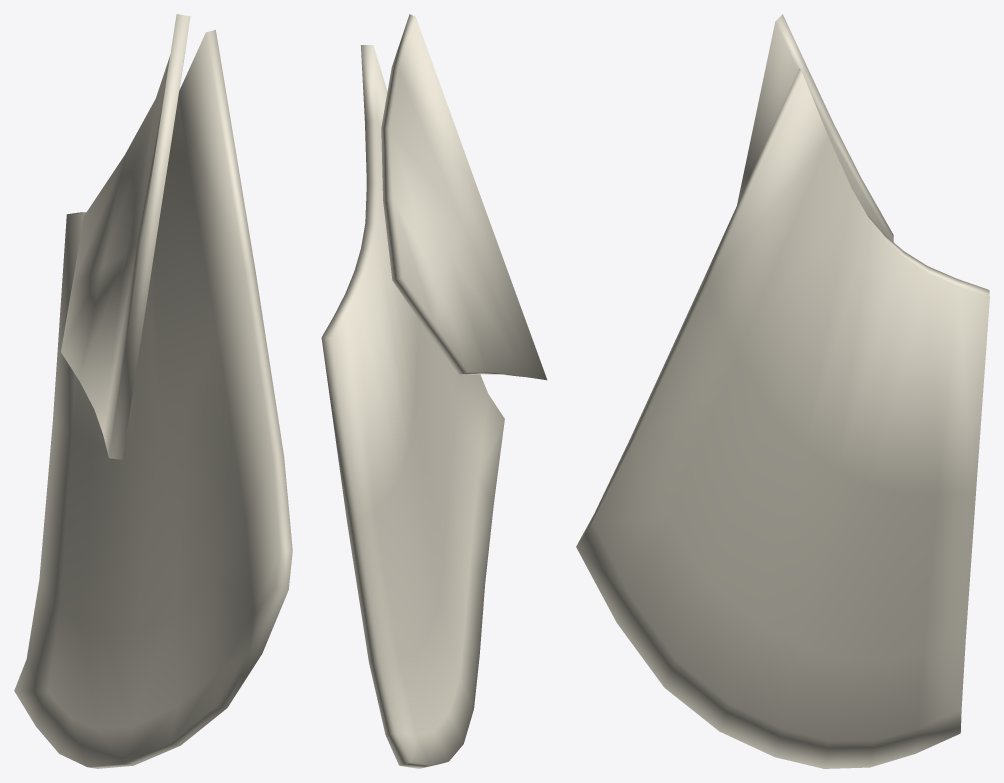
3 renders of one model, left to right at view 1: azimuth 30°, elevation 25°; view 2: azimuth 150°, elevation 25°; view 3: azimuth 270°, elevation 25°, orthographic. The views are drawn at different scales.
Parts seen in each view (by area): view 1: ZA_3b72654027e38586; view 2: ZA_3b72654027e38586; view 3: ZA_3b72654027e38586.
Part boxes in pixels (x1=…): ZA_3b72654027e38586: x1=14, y1=14, x2=292, y2=768; ZA_3b72654027e38586: x1=321, y1=14, x2=547, y2=768; ZA_3b72654027e38586: x1=576, y1=14, x2=989, y2=768.
Size of the model in its own units: 0.00626 by 0.0295 by 0.014.
